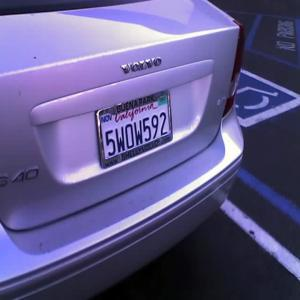Vehicle-registration-plate: (97, 90, 175, 170)
